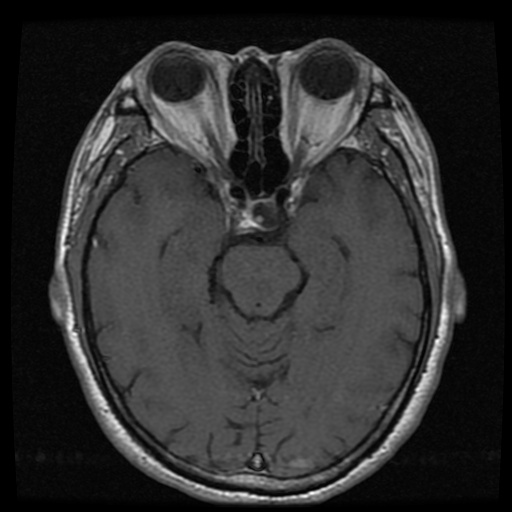pituitary: (242, 198, 284, 231)
